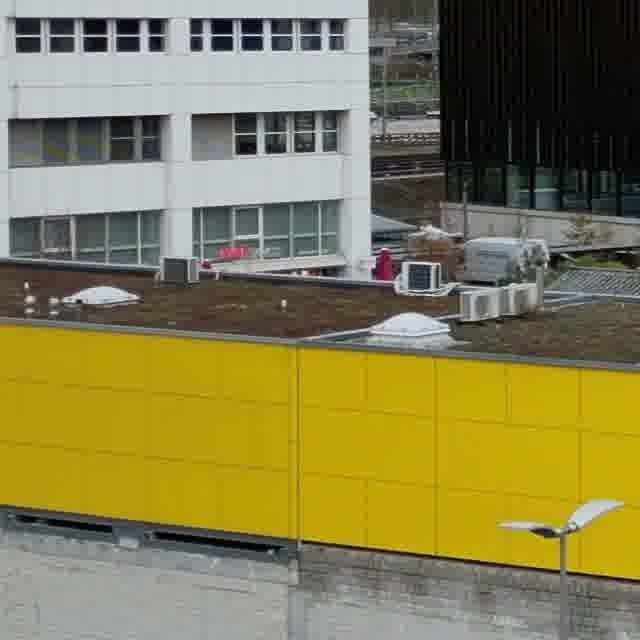Drohne: (410, 224, 454, 239)
